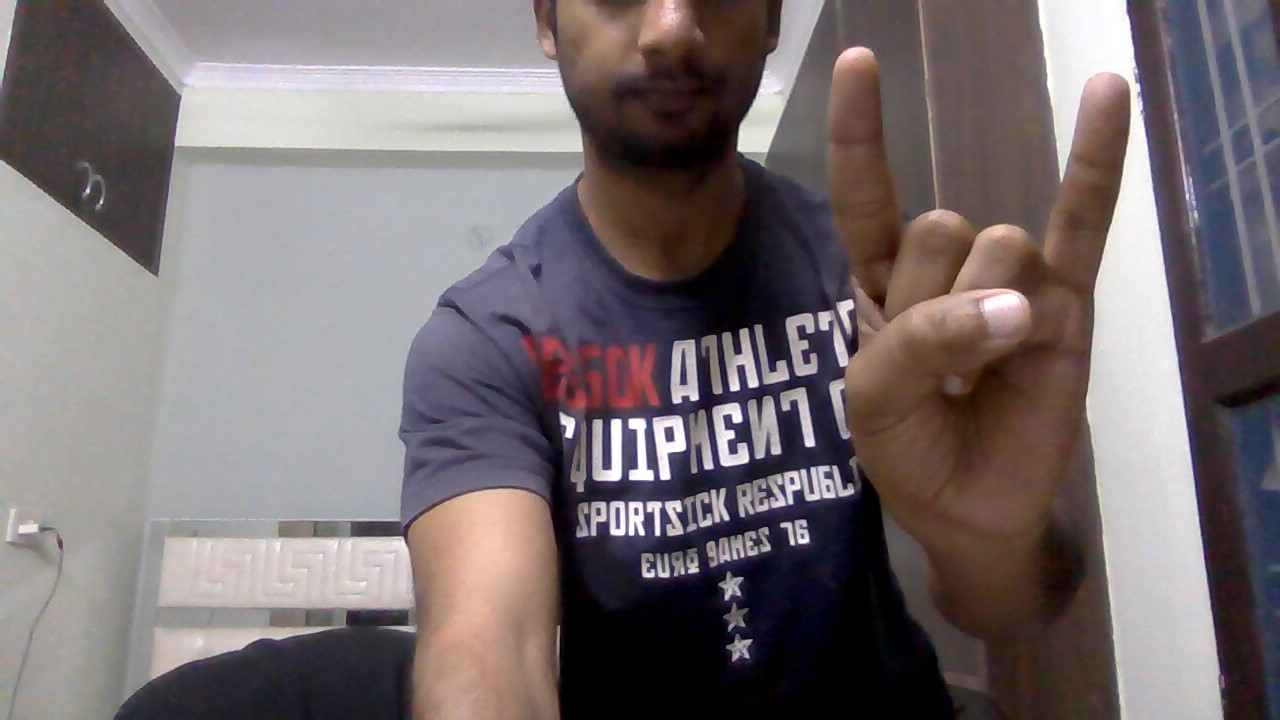Select All: (812, 36, 1141, 524)
